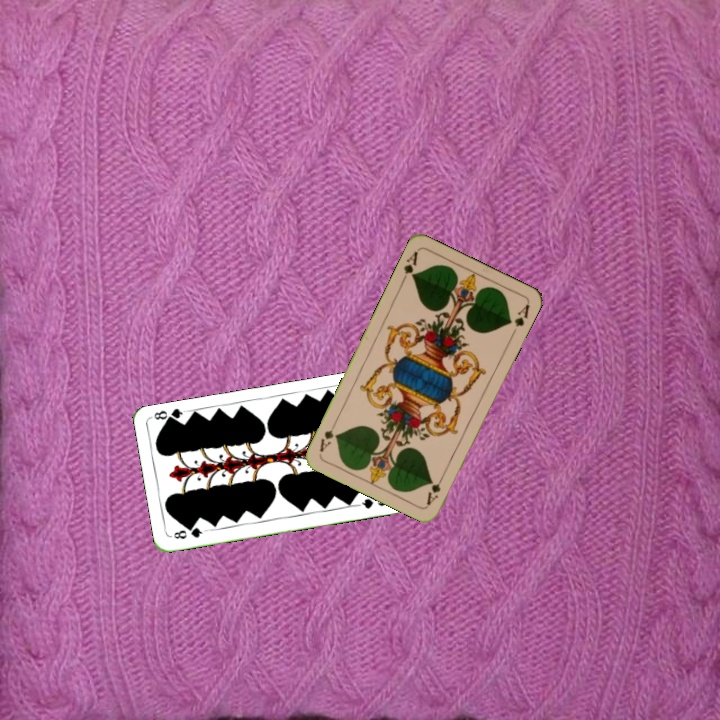G8: (170, 524, 208, 542)
GA: (422, 470, 448, 508), (397, 247, 421, 286)
